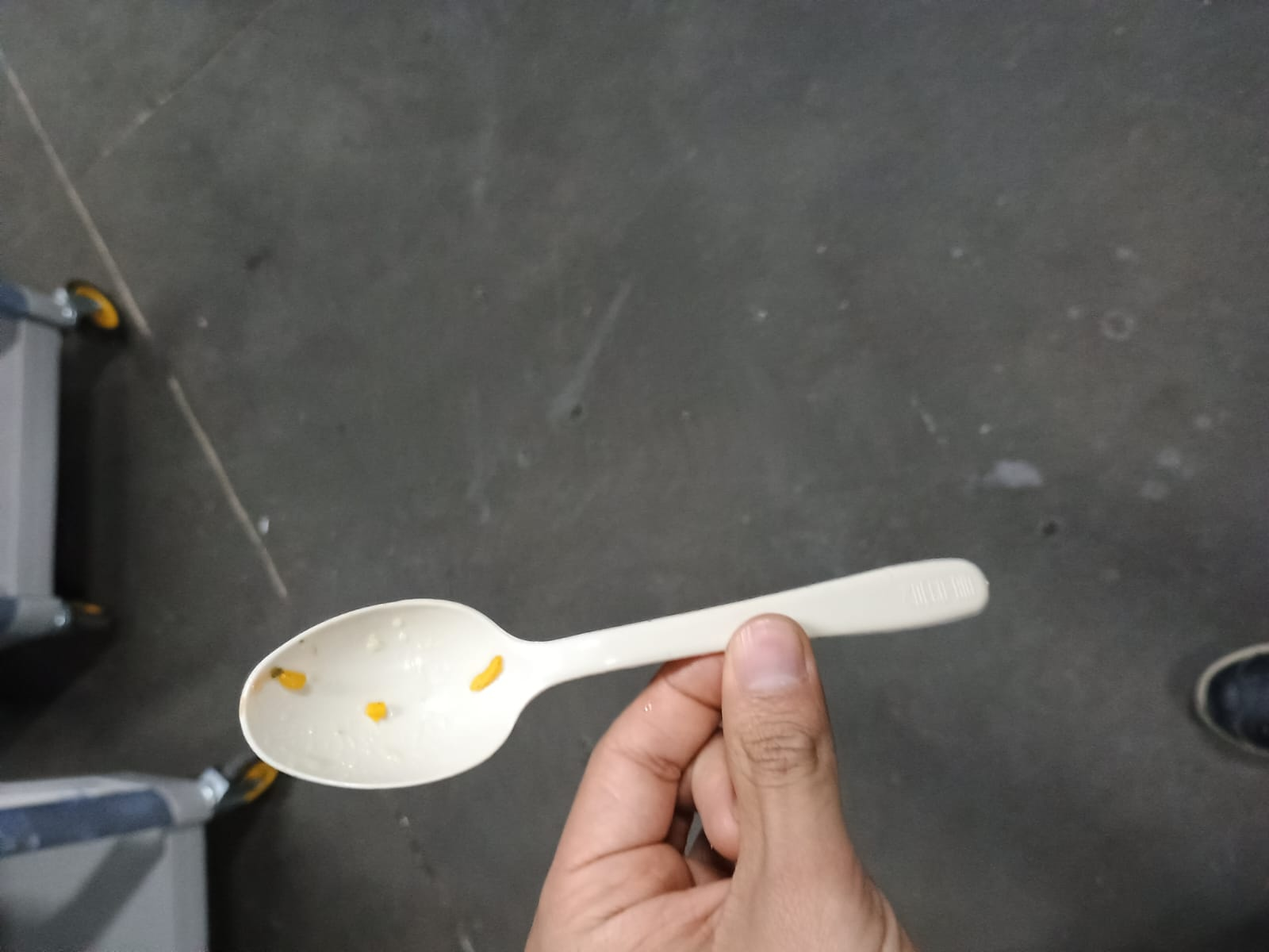Ordinario: (239, 558, 988, 790)
